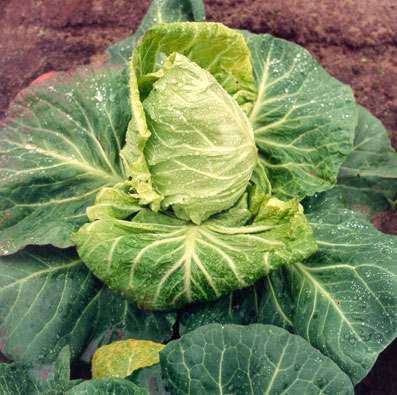cabbage: (1, 0, 396, 393)
